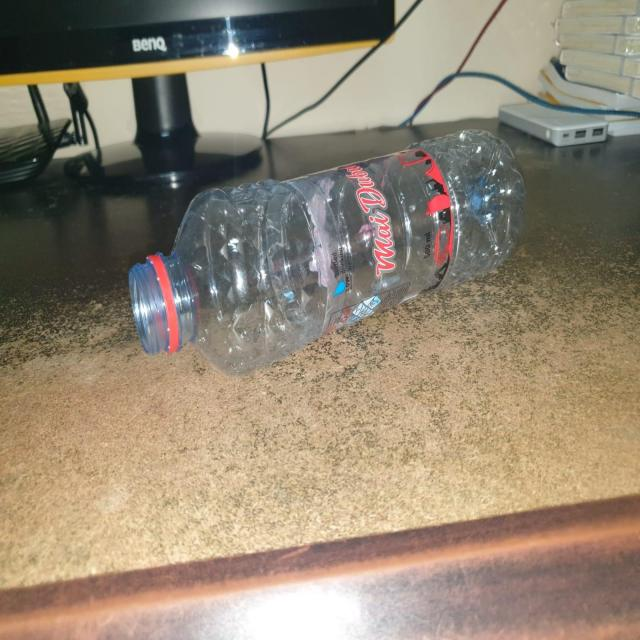bottle: (100, 125, 526, 359)
